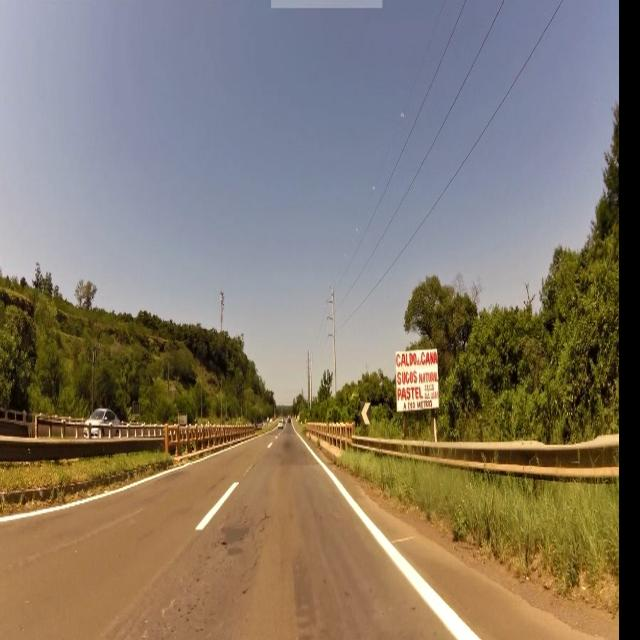Del: (362, 398, 370, 426)
